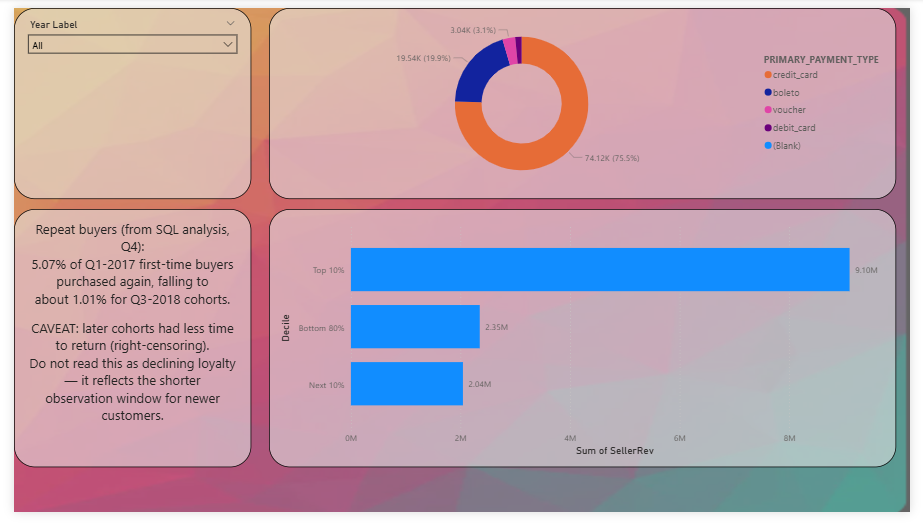

The dashboard page shown, as its layout file describes it:
{"tool":"powerbi","page":{"name":"Customers & Sellers","canvas":[1280,720],"ordinal":2},"visuals":[{"type":"slicer","fields":{"Values":["DIM_DATE.Year Label"]},"box":[0,0,338.6,272.9],"z":0},{"type":"donutChart","fields":{"Category":["FACT_ORDERS.PRIMARY_PAYMENT_TYPE"],"Y":["CountNonNull(FACT_ORDERS.ORDER_ID)"]},"box":[364.3,0,895.7,272.9],"z":1},{"type":"clusteredBarChart","title":"Revenue concentration (all-time): Top 10% of sellers = 67.5% of revenue","fields":{"Category":["Seller Revenue.Decile"],"Y":["Sum(Seller Revenue.SellerRev)"]},"box":[364.3,287.1,895.7,368.6],"z":4},{"type":"textbox","box":[0,287.1,338.6,368.6],"z":5}]}

Visuals, with their boxes in screenshot pixels (x1, y1, x2, y2), scaled from the page's 1280x720 canvas onto the 923x523 screenshot:
slicer - DIM_DATE.Year Label: pyautogui.locateOnScreen(0, 0, 244, 198)
donutChart - FACT_ORDERS.PRIMARY_PAYMENT_TYPE x CountNonNull(FACT_ORDERS.ORDER_ID): pyautogui.locateOnScreen(263, 0, 909, 198)
"Revenue concentration (all-time): Top 10% of sellers = 67.5% of revenue" clusteredBarChart: pyautogui.locateOnScreen(263, 209, 909, 476)
textbox: pyautogui.locateOnScreen(0, 209, 244, 476)
